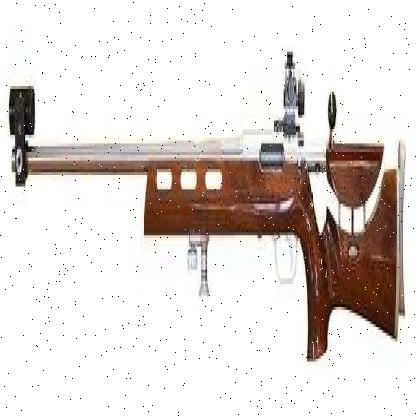rifle: (4, 9, 413, 379)
